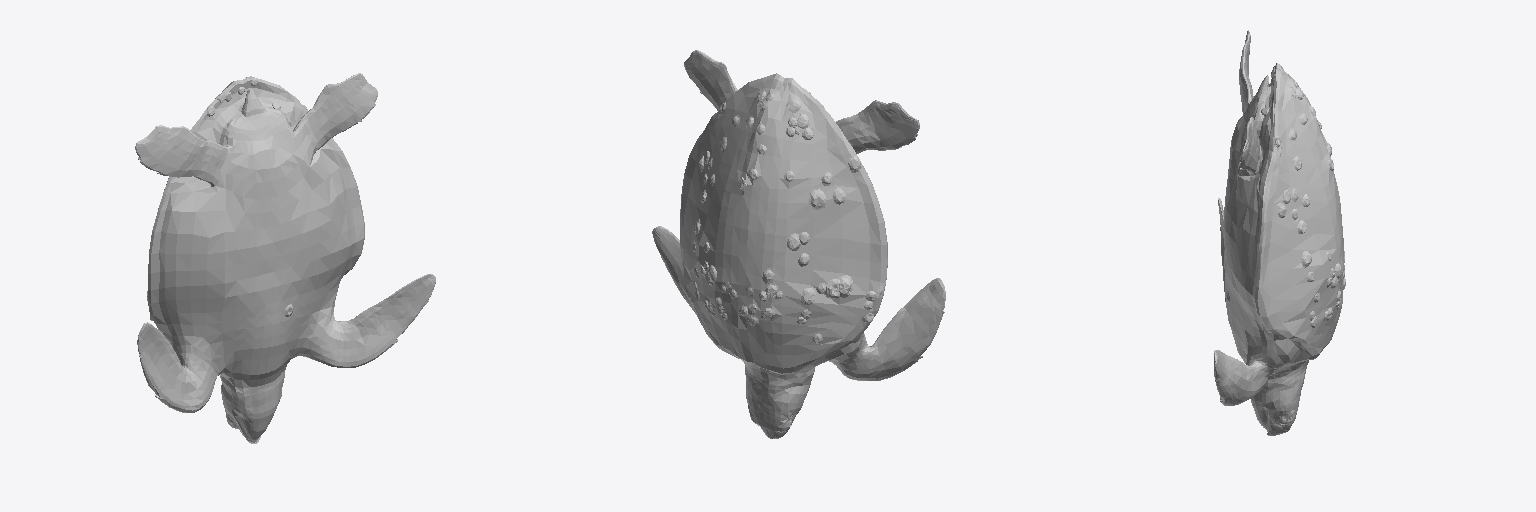
The model's file is turtle.obj.
3 views of the same model, side by side, from view 1: azimuth 30°, elevation 25°; view 2: azimuth 150°, elevation 25°; view 3: azimuth 270°, elevation 25° (orthographic).
Visible parts, largest first — view 1: meshes_0; view 2: meshes_0; view 3: meshes_0.
Boxes of the visible parts, x1,y1,x2,y2 form: meshes_0: [135, 73, 435, 443]; meshes_0: [652, 50, 945, 438]; meshes_0: [1214, 30, 1345, 435].
Bounding box in the file's own units: 72.61 × 85.88 × 28.2.